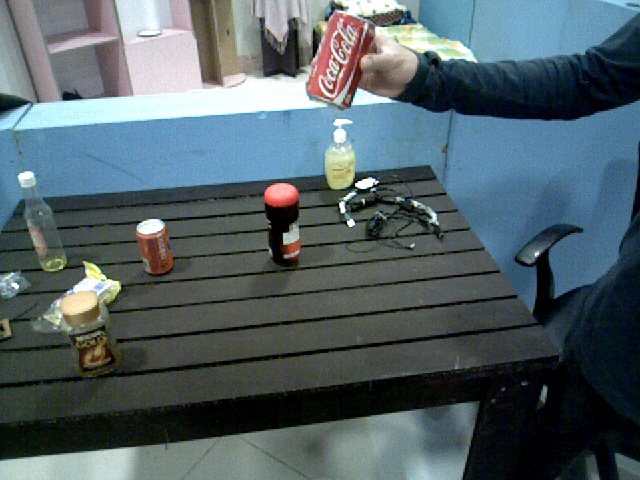coca: (304, 13, 375, 110)
coffee: (60, 296, 121, 380)
cream: (260, 182, 305, 268)
fanta: (138, 218, 175, 275)
